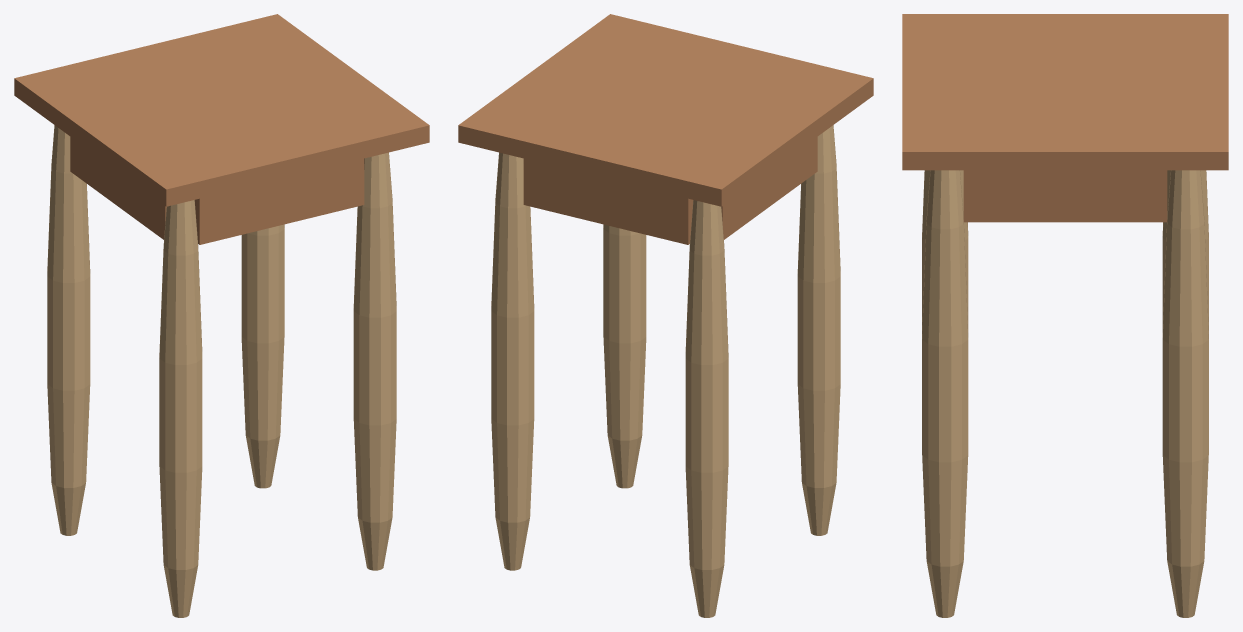
The model's file is CAL-STL-counter.glb.
3 views of the same model, side by side, from view 1: azimuth 30°, elevation 25°; view 2: azimuth 150°, elevation 25°; view 3: azimuth 270°, elevation 25° (orthographic). The views are drawn at different scales.
Visible parts, largest first — view 1: top:pbr, leg-fl:pbr, leg-fr:pbr, leg-bl:pbr, leg-br:pbr, apron-f:pbr, apron-l:pbr; view 2: top:pbr, leg-bl:pbr, leg-br:pbr, leg-fl:pbr, leg-fr:pbr, apron-b:pbr, apron-l:pbr; view 3: top:pbr, leg-fr:pbr, leg-br:pbr, apron-r:pbr, leg-fl:pbr, leg-bl:pbr.
Boxes of the visible parts, box(x1,y1,x2,y2) form: top:pbr: box(14, 14, 429, 206); leg-fl:pbr: box(159, 200, 202, 617); leg-fr:pbr: box(353, 152, 396, 570); leg-bl:pbr: box(47, 125, 90, 535); leg-br:pbr: box(241, 224, 284, 488); apron-f:pbr: box(194, 158, 364, 244); apron-l:pbr: box(70, 137, 166, 239); top:pbr: box(458, 14, 873, 206); leg-bl:pbr: box(685, 200, 728, 617); leg-br:pbr: box(491, 152, 534, 570); leg-fl:pbr: box(797, 125, 840, 535); leg-fr:pbr: box(603, 224, 646, 488); apron-b:pbr: box(523, 158, 693, 244); apron-l:pbr: box(721, 137, 817, 239); top:pbr: box(902, 14, 1228, 170); leg-fr:pbr: box(922, 170, 968, 617); leg-br:pbr: box(1162, 170, 1208, 617); apron-r:pbr: box(963, 170, 1167, 222); leg-fl:pbr: box(922, 170, 968, 333); leg-bl:pbr: box(1162, 170, 1208, 333).
Size of the model in its own units: 0.4 by 0.65 by 0.4.
